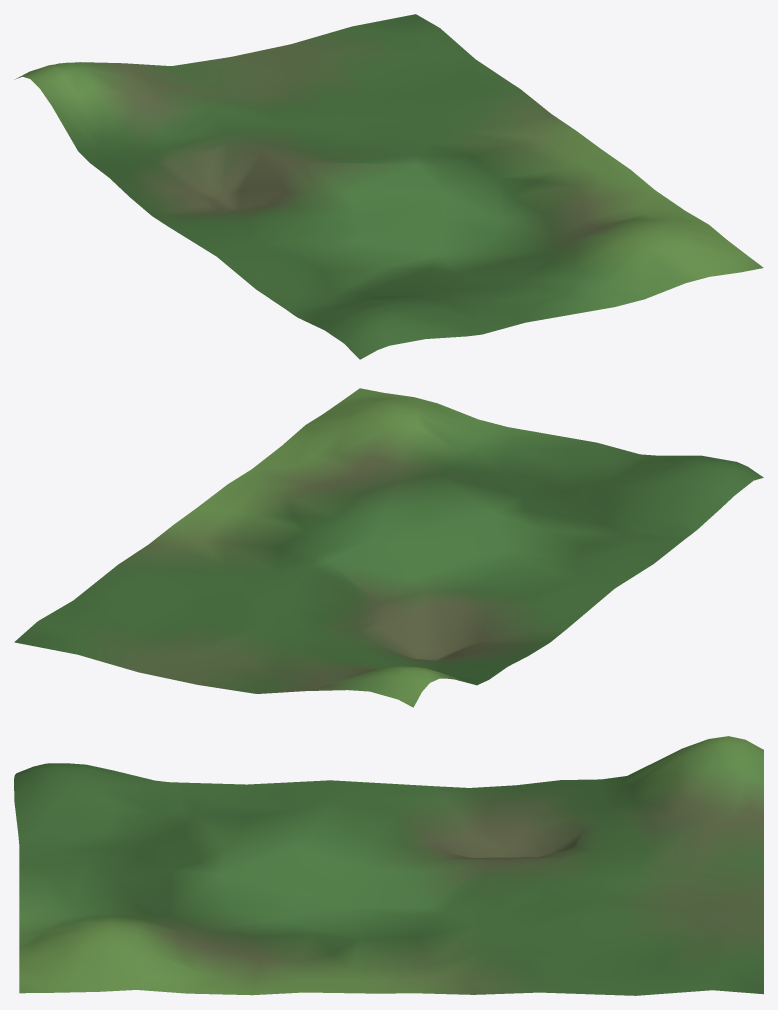
The model's file is hilly_hole_lp.glb.
3 renders of one model, top to bottom at view 1: azimuth 30°, elevation 25°; view 2: azimuth 150°, elevation 25°; view 3: azimuth 270°, elevation 25°, orthographic. The views are drawn at different scales.
Parts seen in each view (by area): view 1: HillyHole; view 2: HillyHole; view 3: HillyHole.
Part boxes in pixels (x1,y1,x2,y2): HillyHole: (14,14,763,359); HillyHole: (14,388,763,707); HillyHole: (14,736,763,995).
Size of what is drawn, in the model's own units: 40.64 by 7.82 by 60.43.
